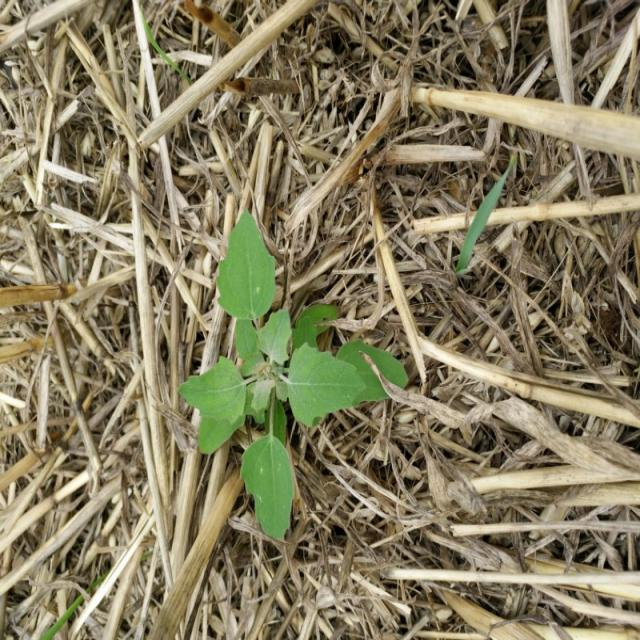ca: (181, 213, 367, 542)
